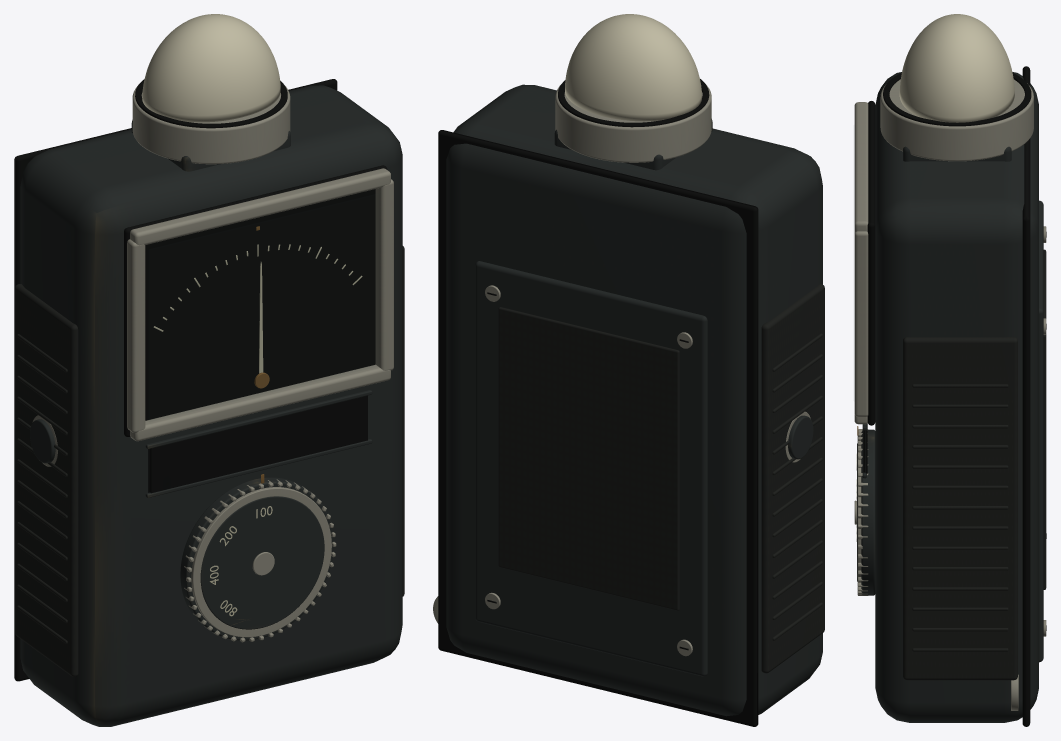
File: B04_LightMeter.fbx
3 renders of one model, left to right at view 1: azimuth 30°, elevation 25°; view 2: azimuth 150°, elevation 25°; view 3: azimuth 270°, elevation 25°, orthographic. The views are drawn at different scales.
Parts seen in each view (by area): view 1: Body_Mesh, ReadoutRegion_Mesh, ISODial_Mesh, SensorHead_Mesh, ReadoutContent_Mesh, MeasureButton_Mesh; view 2: Body_Mesh, BackCover_Mesh, SensorHead_Mesh, MeasureButton_Mesh; view 3: Body_Mesh, SensorHead_Mesh, ReadoutRegion_Mesh, BackCover_Mesh, ISODial_Mesh.
Part boxes in pixels (left/top/right/bottom): Body_Mesh: left=14, top=79, right=404, bottom=726; ReadoutRegion_Mesh: left=124, top=165, right=393, bottom=497; ISODial_Mesh: left=180, top=477, right=336, bottom=642; SensorHead_Mesh: left=131, top=14, right=290, bottom=171; ReadoutContent_Mesh: left=150, top=395, right=367, bottom=493; MeasureButton_Mesh: left=30, top=419, right=55, bottom=463; Body_Mesh: left=433, top=84, right=824, bottom=726; BackCover_Mesh: left=475, top=261, right=707, bottom=676; SensorHead_Mesh: left=554, top=14, right=712, bottom=170; MeasureButton_Mesh: left=788, top=415, right=813, bottom=459; Body_Mesh: left=857, top=66, right=1038, bottom=726; SensorHead_Mesh: left=880, top=14, right=1033, bottom=161; ReadoutRegion_Mesh: left=854, top=101, right=875, bottom=478; BackCover_Mesh: left=1039, top=200, right=1046, bottom=662; ISODial_Mesh: left=854, top=429, right=875, bottom=595.
Bounding box in the file's own units: 0.06 × 0.11 × 0.0302.
